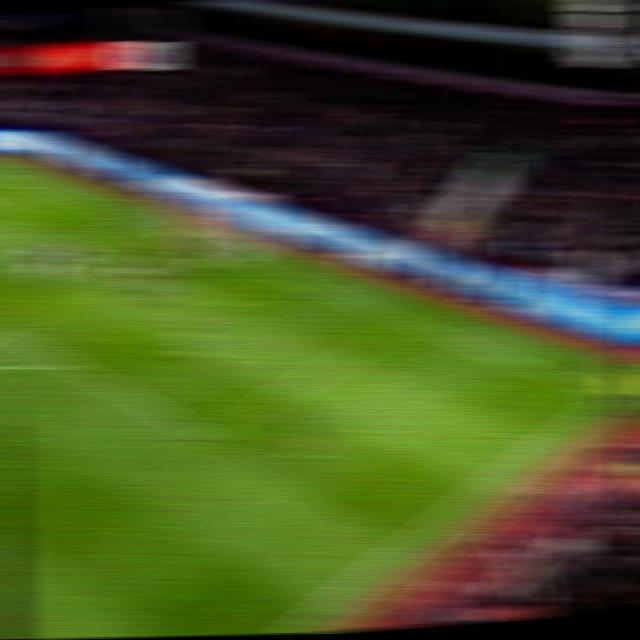bigarea_bottom_inner: (193, 428, 224, 448)
bigarea_bottom_outter: (395, 315, 424, 331)
bigarea_top_outter: (36, 184, 68, 201)
bottom_arc_area_intersection: (55, 356, 85, 375)
corner: (589, 387, 624, 409)
smallarea_bottom_inner: (216, 300, 248, 315)
smallarea_bottom_outter: (271, 274, 306, 288)
smallarea_top_inner: (57, 237, 87, 249)
smallarea_top_outter: (117, 214, 145, 228)
